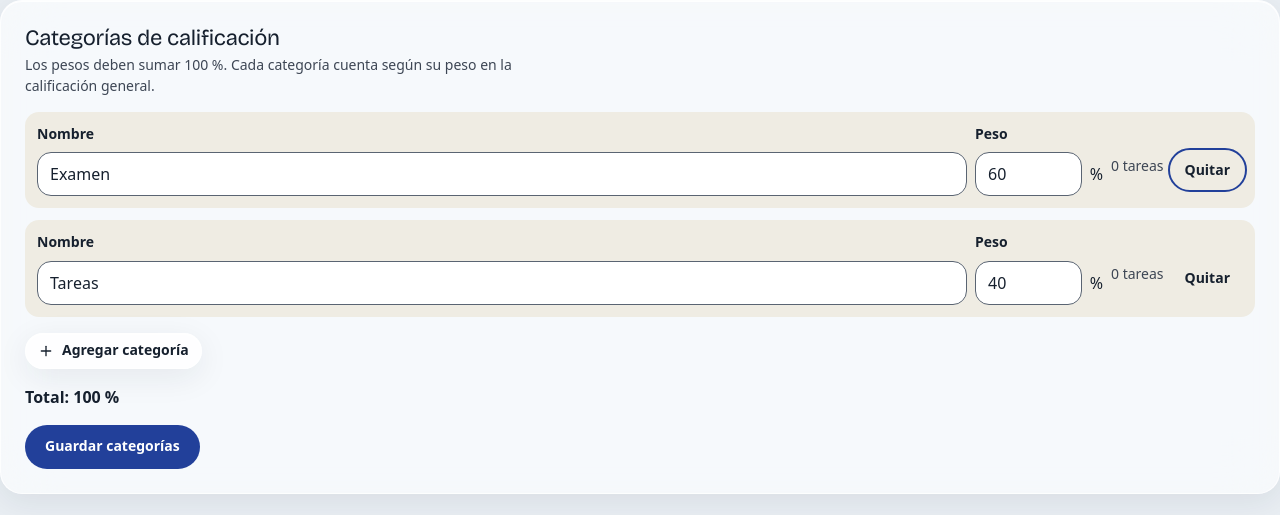
Test: CategoriasView (PR-1E03) › PR-1E03 · al quitar una fila el foco va al «Quitar» de la vecina y, sin filas, a «Agregar categoría»
Expected: the 2nd field showing "Tareas" is shown, [37, 261, 967, 305]
Click the 1st button "Quitar" at (1207, 170), box [1172, 152, 1243, 188]
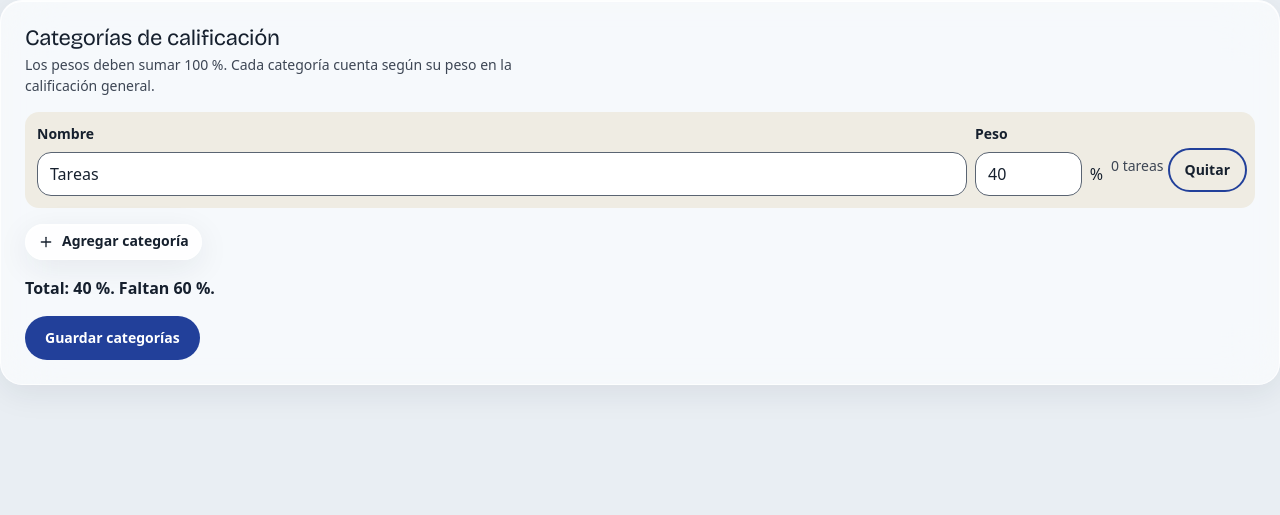
Expected: the field showing "Tareas" is shown, [37, 152, 967, 196]
Click the button "Quitar" at (1207, 170), box [1172, 152, 1243, 188]
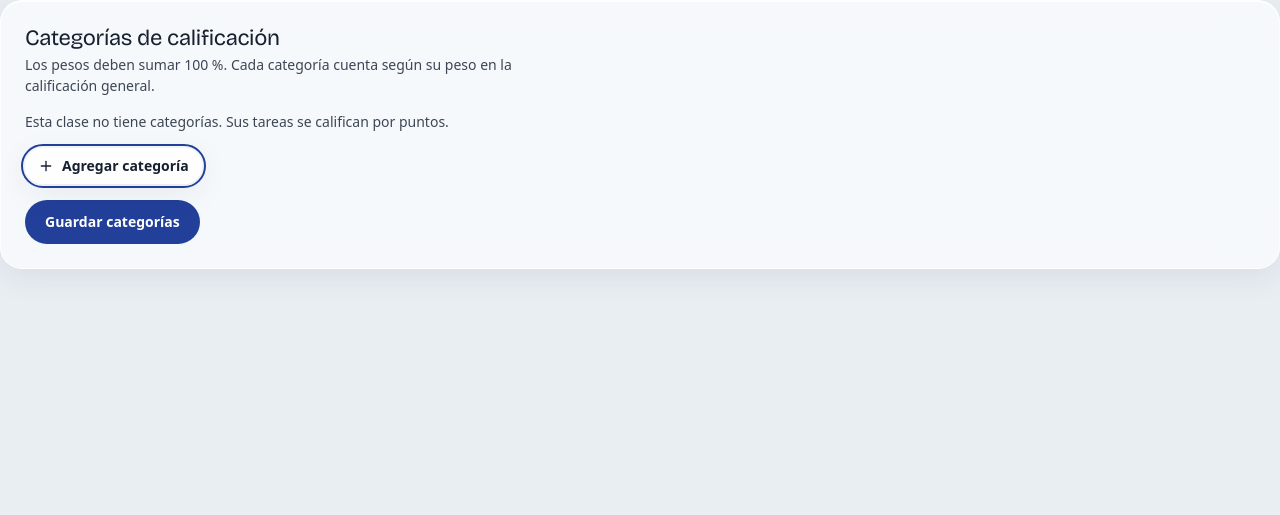
Result: the text "Esta clase no tiene categorías. Sus tareas se califican por puntos." is shown at [25, 112, 449, 131]
